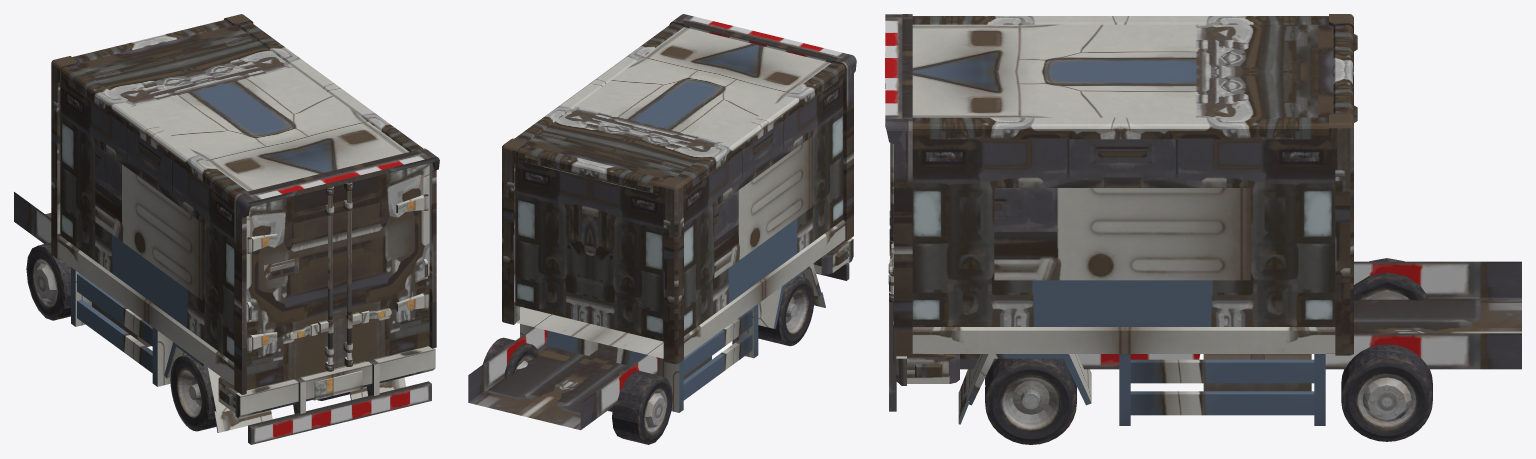
Rendered from P_Truck_001_S1_M01a.obj.
3 views of the same model, side by side, from view 1: azimuth 30°, elevation 25°; view 2: azimuth 150°, elevation 25°; view 3: azimuth 270°, elevation 25° (orthographic). The views are drawn at different scales.
Bounding box in the file's own units: 2.15 × 2.78 × 4.96.
Materials: 5 (5 with a texture image).
